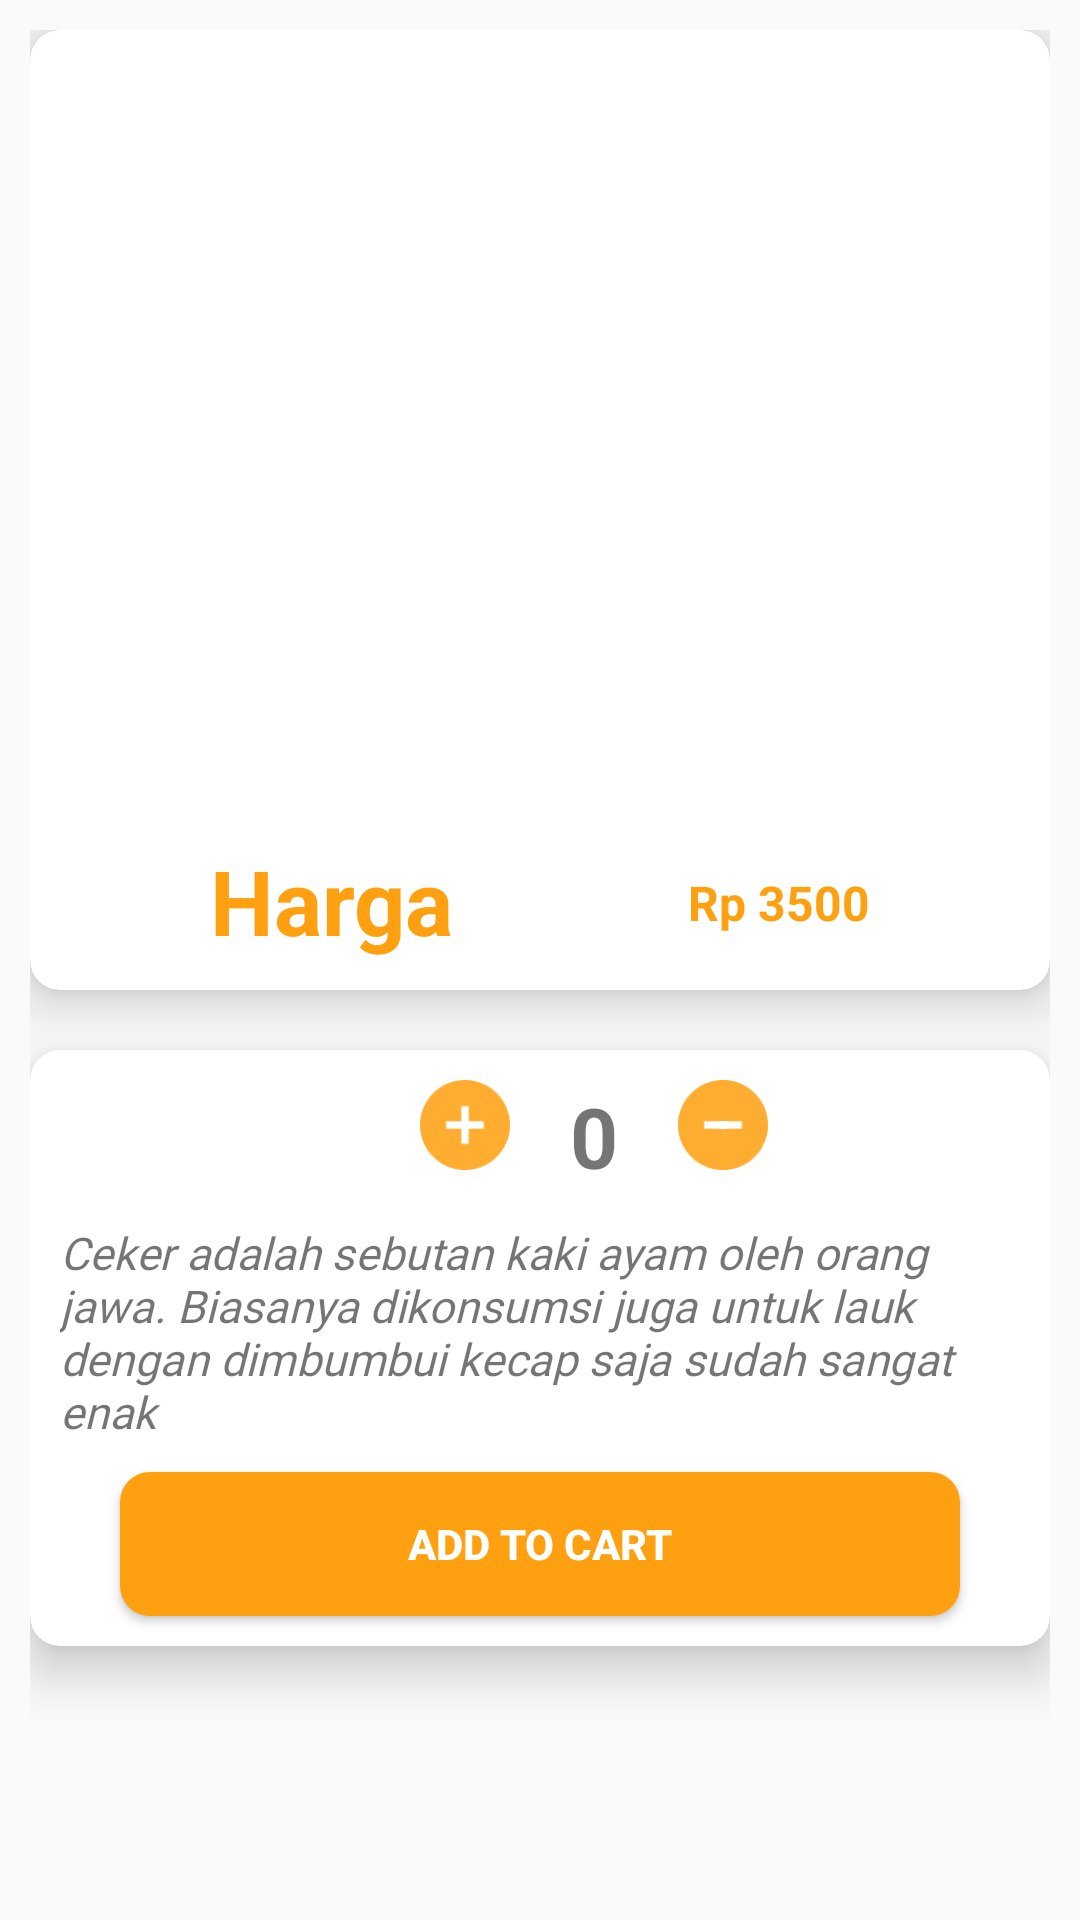

Named icons in this screenshot (1080x1920) and their bounding boxes, rect(x1, y1, x2, y2):
minus: rect(678, 1080, 768, 1170)
plus: rect(420, 1080, 510, 1170)
